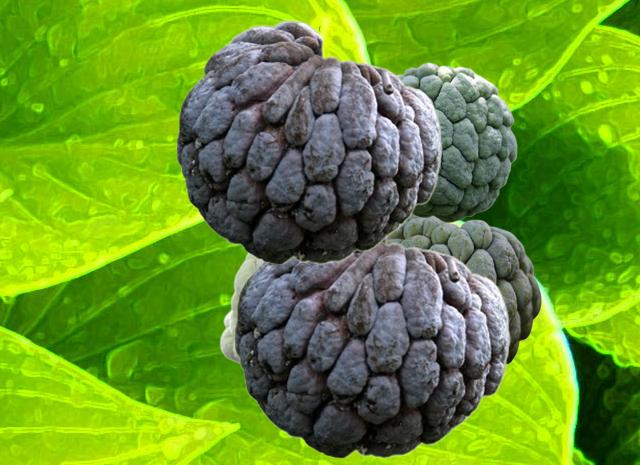atis: (176, 19, 441, 263), (234, 236, 509, 457), (388, 216, 540, 364), (397, 62, 516, 222), (219, 253, 261, 363)
